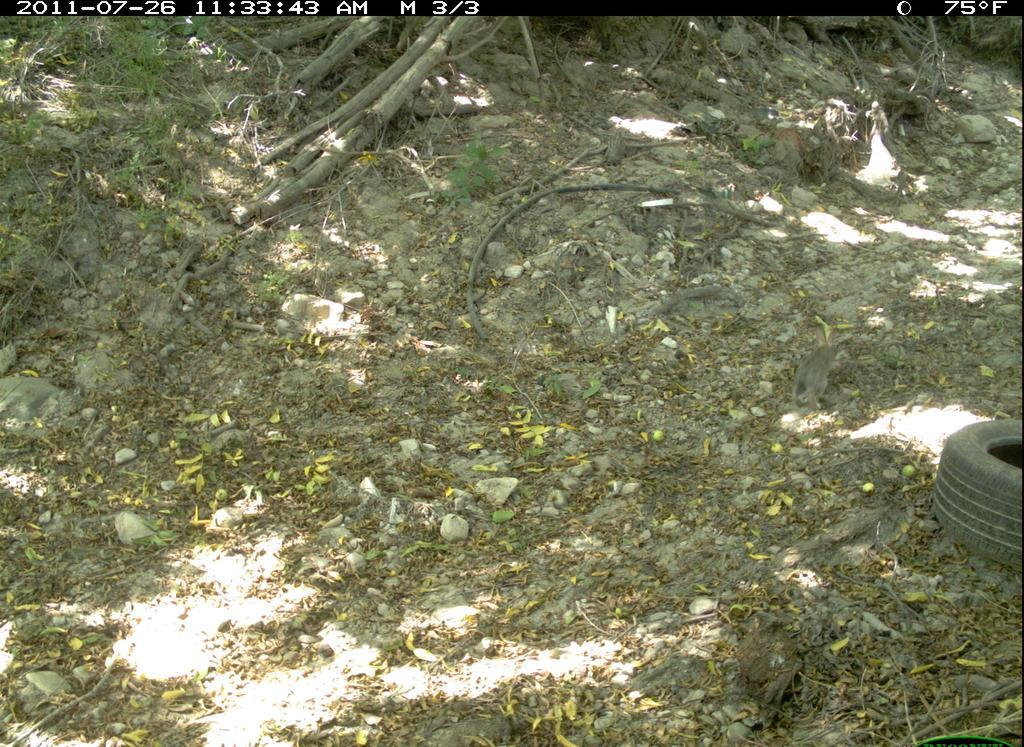rabbit: (780, 315, 858, 418)
